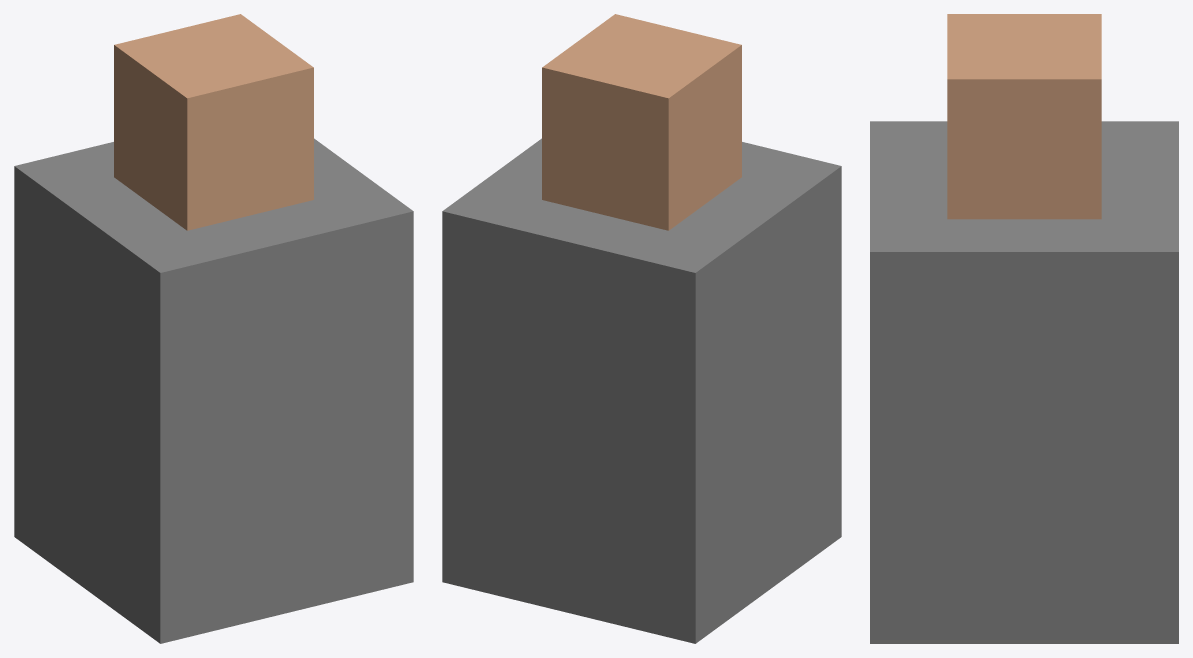
The model's file is space_rings_rider.obj.
3 renders of one model, left to right at view 1: azimuth 30°, elevation 25°; view 2: azimuth 150°, elevation 25°; view 3: azimuth 270°, elevation 25°, orthographic. The views are drawn at different scales.
Size of the model in its own units: 0.4 by 0.76 by 0.4.
